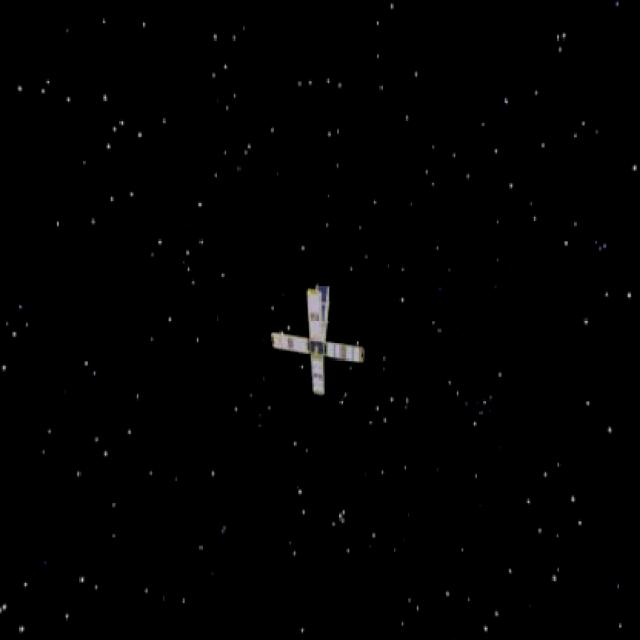satellite: (254, 279, 372, 402)
